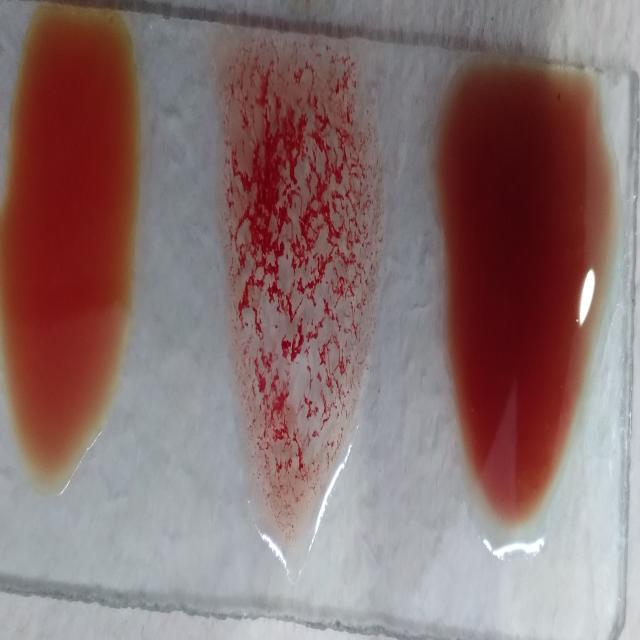D: (222, 42, 380, 528)
